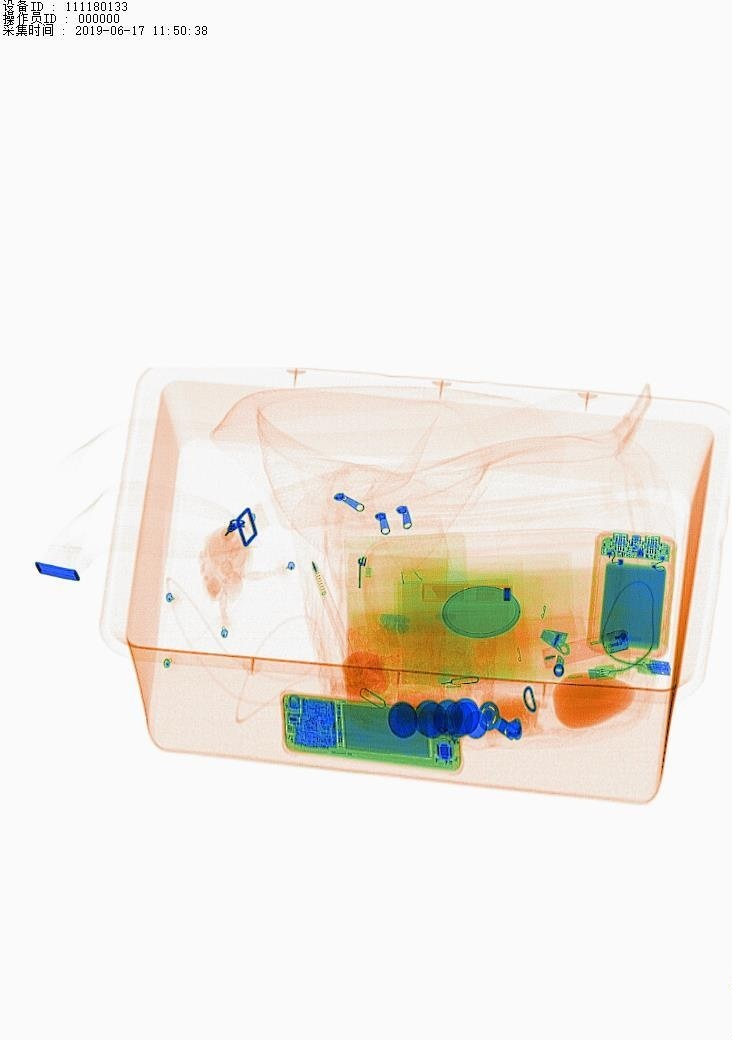NonmetallicFire: (533, 623, 634, 669)
